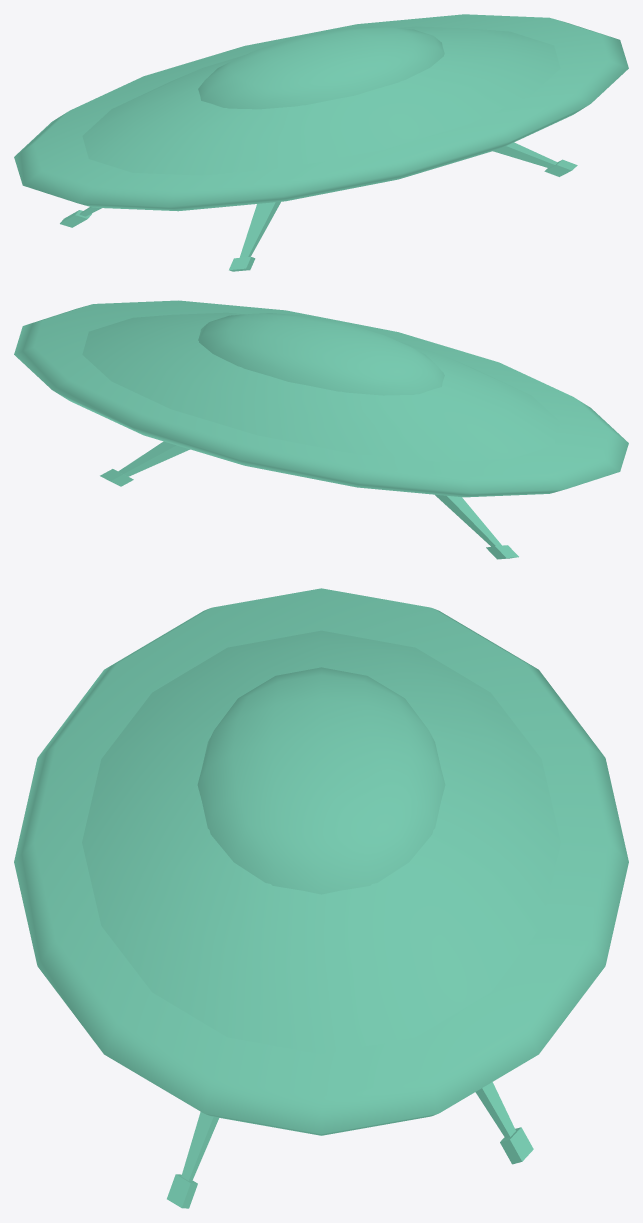
3 views of the same model, one above another, from view 1: azimuth 30°, elevation 25°; view 2: azimuth 150°, elevation 25°; view 3: azimuth 270°, elevation 25° (orthographic). The views are drawn at different scales.
Parts seen in each view (by area): view 1: Mesh.016; view 2: Mesh.016; view 3: Mesh.016.
Boxes of the visible parts, x1=… form: Mesh.016: x1=14, y1=14, x2=628, y2=271; Mesh.016: x1=14, y1=300, x2=628, y2=559; Mesh.016: x1=14, y1=588, x2=628, y2=1208.
Size of what is drawn, in the model's own units: 3.73 by 0.8946 by 1.78.
1 material, 1 textured.
